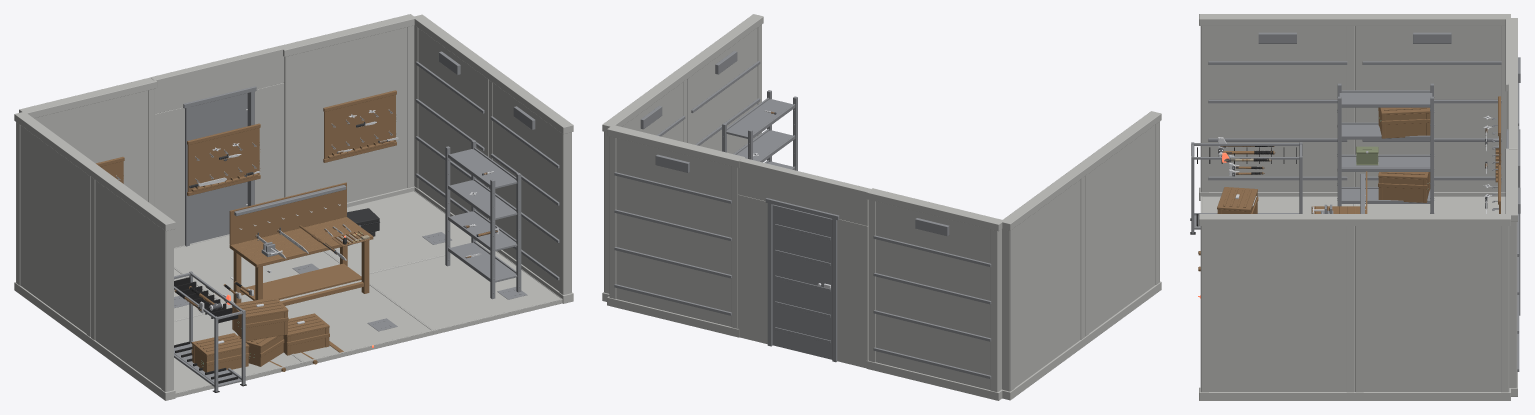
Rendered from mega-weapon-pack-blade-store-6be5c214__33462.glb.
3 renders of one model, left to right at view 1: azimuth 30°, elevation 25°; view 2: azimuth 150°, elevation 25°; view 3: azimuth 270°, elevation 25°, orthographic. The views are drawn at different scales.
Parts seen in each view (by area): view 1: 008-armoury-wall-panel/0, 011-armoury-wall-panel/0, 009-armoury-wall-panel/0, 012-armoury-wall-panel/0, 007-armoury-door/0, 031-gunsmith-bench/0, 010-armoury-wall-panel/0, 006-armoury-wall-panel/0, 005-armoury-floor-tile/0, 044-armoury-shelf-unit/0, 003-armoury-floor-tile/0, 004-armoury-floor-tile/0 (+18 smaller); view 2: 006-armoury-wall-panel/0, 008-armoury-wall-panel/0, 009-armoury-wall-panel/0, 011-armoury-wall-panel/0, 007-armoury-door/0, 007-armoury-door/door-main/alloyDark, 012-armoury-wall-panel/0, 010-armoury-wall-panel/0, 044-armoury-shelf-unit/0, 006-armoury-wall-panel/1, 008-armoury-wall-panel/1, 007-armoury-door/1 (+1 smaller); view 3: 010-armoury-wall-panel/0, 012-armoury-wall-panel/0, 011-armoury-wall-panel/0, 009-armoury-wall-panel/0, 060-armoury-shelf-unit/0, 011-armoury-wall-panel/1, 008-armoury-wall-panel/0, 009-armoury-wall-panel/1, 000-armoury-floor-tile/0, 001-armoury-floor-tile/0, 038-floor-rifle-rack/0, 063-ammo-crate/0 (+11 smaller).
Boxes of the visible parts, x1=… form: 008-armoury-wall-panel/0: x1=280, y1=14, x2=415, y2=207; 011-armoury-wall-panel/0: x1=89, y1=166, x2=175, y2=400; 009-armoury-wall-panel/0: x1=14, y1=111, x2=99, y2=345; 012-armoury-wall-panel/0: x1=487, y1=70, x2=573, y2=303; 007-armoury-door/0: x1=150, y1=45, x2=284, y2=247; 031-gunsmith-bench/0: x1=229, y1=182, x2=373, y2=305; 010-armoury-wall-panel/0: x1=414, y1=14, x2=497, y2=219; 006-armoury-wall-panel/0: x1=19, y1=77, x2=157, y2=206; 005-armoury-floor-tile/0: x1=360, y1=245, x2=562, y2=334; 044-armoury-shelf-unit/0: x1=445, y1=140, x2=521, y2=299; 003-armoury-floor-tile/0: x1=229, y1=280, x2=433, y2=366; 004-armoury-floor-tile/0: x1=325, y1=191, x2=482, y2=275; 006-armoury-wall-panel/0: x1=866, y1=188, x2=1003, y2=400; 008-armoury-wall-panel/0: x1=607, y1=125, x2=745, y2=337; 009-armoury-wall-panel/0: x1=1002, y1=166, x2=1086, y2=400; 011-armoury-wall-panel/0: x1=1077, y1=111, x2=1161, y2=344; 007-armoury-door/0: x1=738, y1=157, x2=871, y2=368; 007-armoury-door/door-main/alloyDark: x1=772, y1=204, x2=832, y2=359; 012-armoury-wall-panel/0: x1=679, y1=14, x2=763, y2=153; 010-armoury-wall-panel/0: x1=602, y1=69, x2=688, y2=301; 044-armoury-shelf-unit/0: x1=722, y1=90, x2=797, y2=170; 006-armoury-wall-panel/1: x1=873, y1=218, x2=991, y2=378; 008-armoury-wall-panel/1: x1=614, y1=154, x2=731, y2=315; 007-armoury-door/1: x1=765, y1=198, x2=839, y2=362; 010-armoury-wall-panel/0: x1=1353, y1=214, x2=1510, y2=400; 012-armoury-wall-panel/0: x1=1199, y1=214, x2=1356, y2=400; 011-armoury-wall-panel/0: x1=1199, y1=14, x2=1356, y2=200; 009-armoury-wall-panel/0: x1=1353, y1=14, x2=1510, y2=196; 060-armoury-shelf-unit/0: x1=1337, y1=83, x2=1434, y2=213; 011-armoury-wall-panel/1: x1=1208, y1=32, x2=1347, y2=180; 008-armoury-wall-panel/0: x1=1505, y1=148, x2=1517, y2=396; 009-armoury-wall-panel/1: x1=1362, y1=32, x2=1501, y2=180; 000-armoury-floor-tile/0: x1=1355, y1=196, x2=1505, y2=213; 001-armoury-floor-tile/0: x1=1200, y1=196, x2=1354, y2=213; 038-floor-rifle-rack/0: x1=1191, y1=142, x2=1302, y2=233; 063-ammo-crate/0: x1=1378, y1=107, x2=1430, y2=138.
Bounding box in the file's own units: 6.29 × 2.6 × 4.28.
